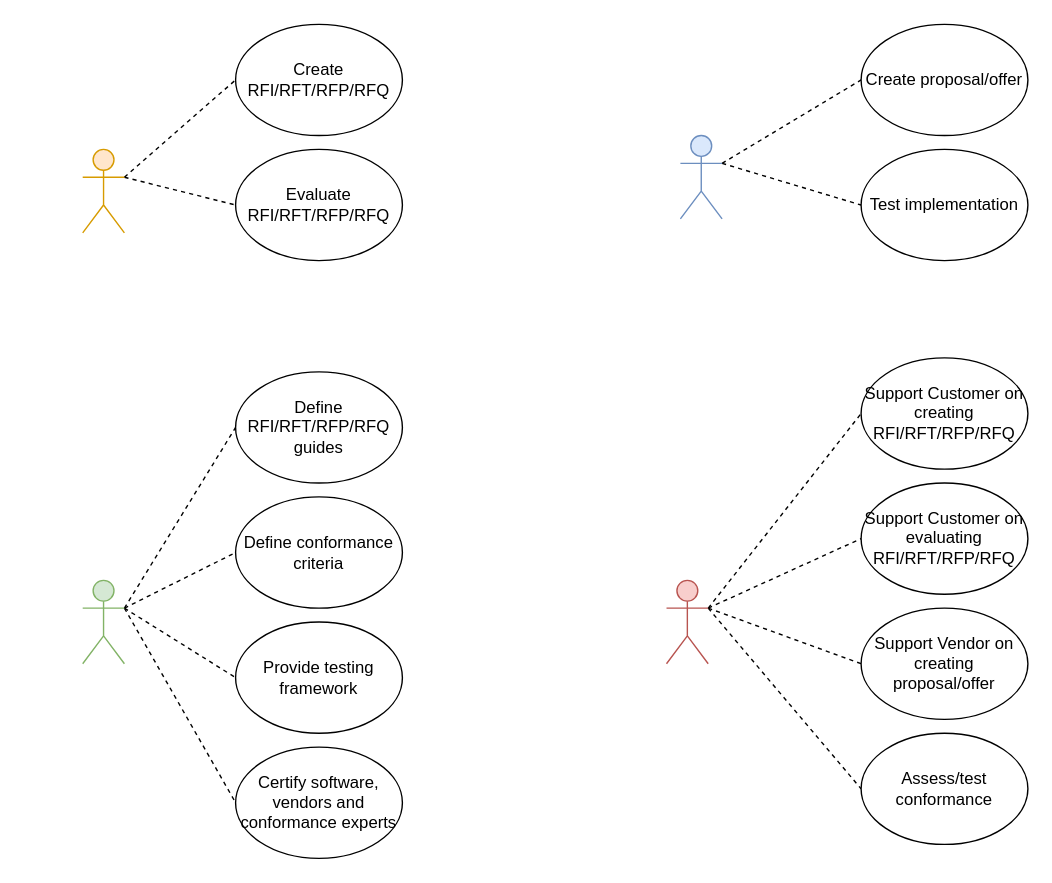
Image size: 1052x883. Some labels were removed from this diagram. The box of each missing label's shape, as (x1, y1, x2, y2) in pixels:
openEHR Conformance Expert: (665, 579, 708, 664)
openEHR Customer: (81, 148, 124, 233)
openEHR Foundation: (81, 579, 124, 664)
openEHR Software Provider/Vendor: (679, 134, 722, 219)
